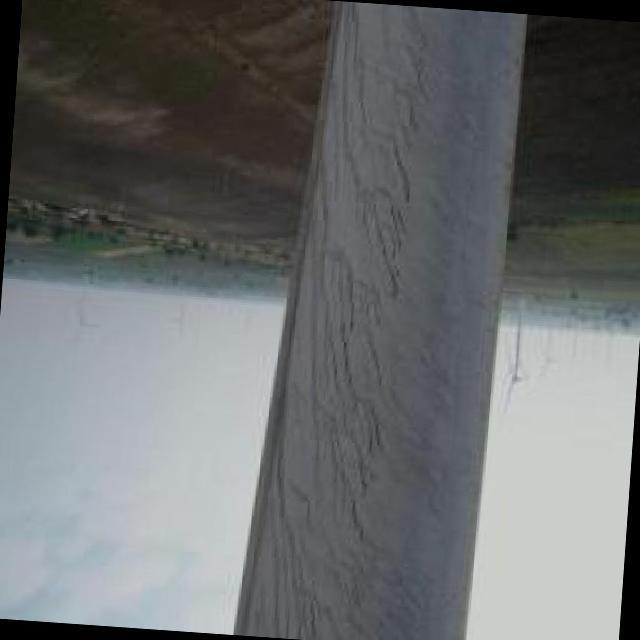Dirt: (241, 15, 530, 640)
